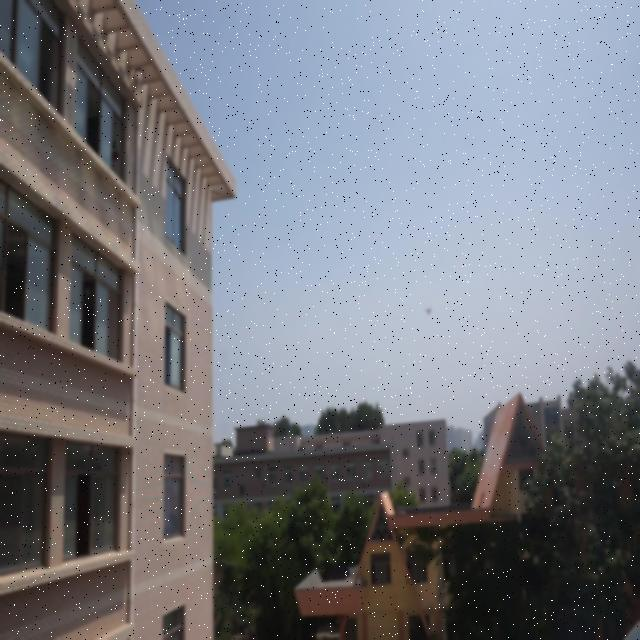UAV: (425, 306, 432, 315)
